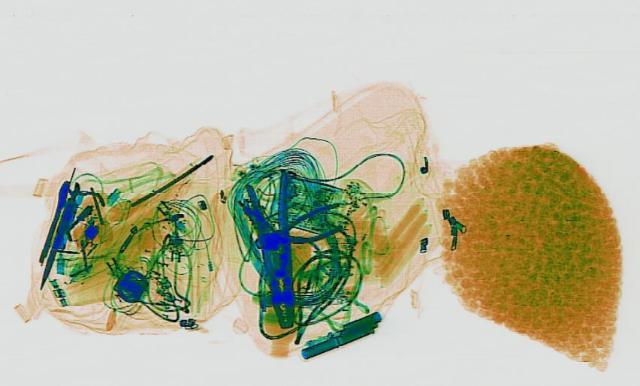Pliers: (242, 168, 308, 325), (242, 198, 362, 255)
Wrench: (50, 179, 80, 245)
